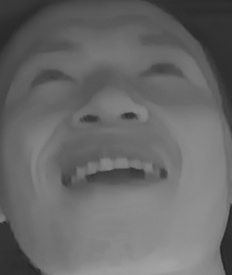eye: (141, 55, 189, 89), (29, 64, 75, 93)
mouth: (49, 142, 173, 200)
